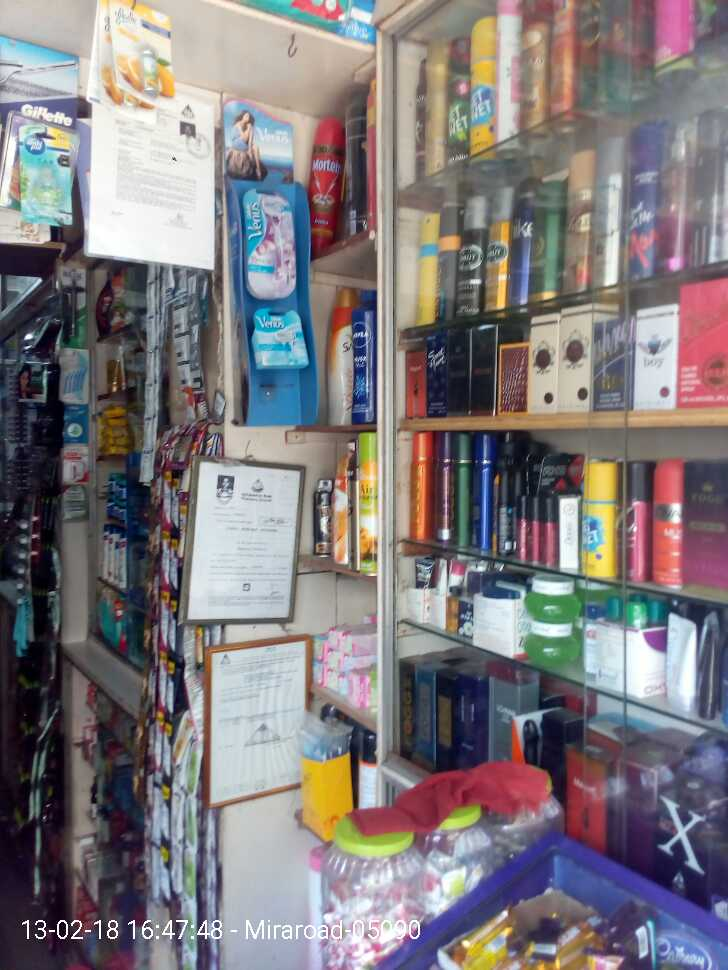beauty: (238, 179, 299, 296), (248, 301, 307, 371)
home: (16, 115, 80, 232)
